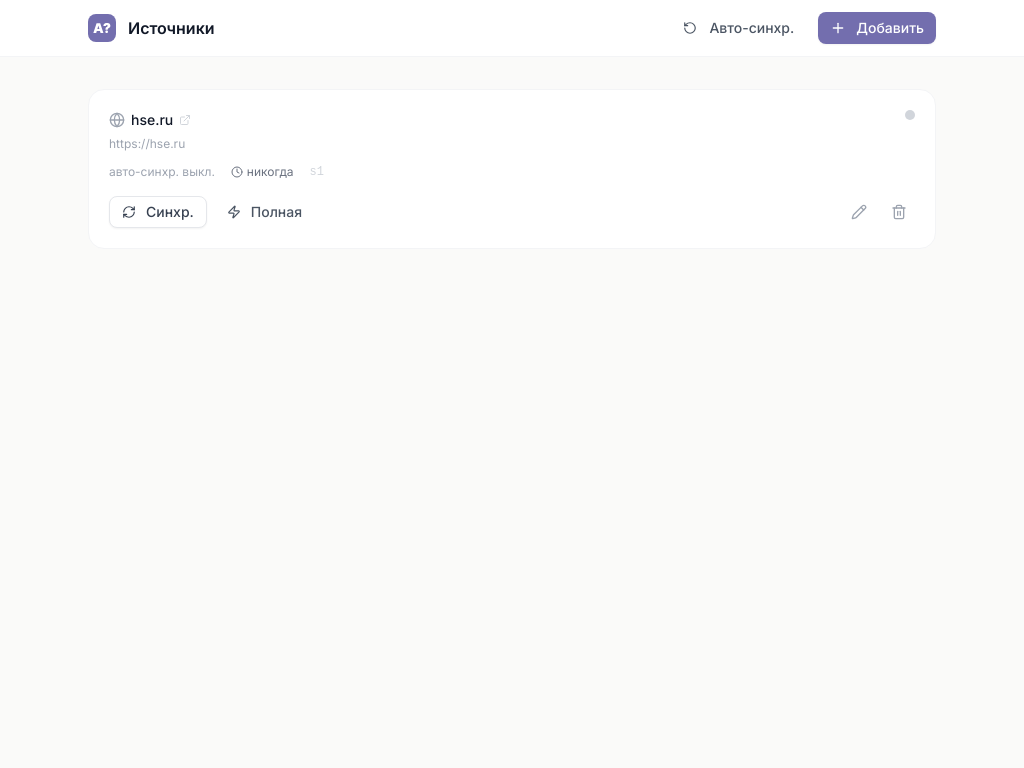
Test: SourcesPage › opens delete confirm modal
Expected: the link "hse.ru" is shown, [109, 110, 191, 130]
Click the button named "удалить" at (899, 212), box [883, 196, 915, 228]
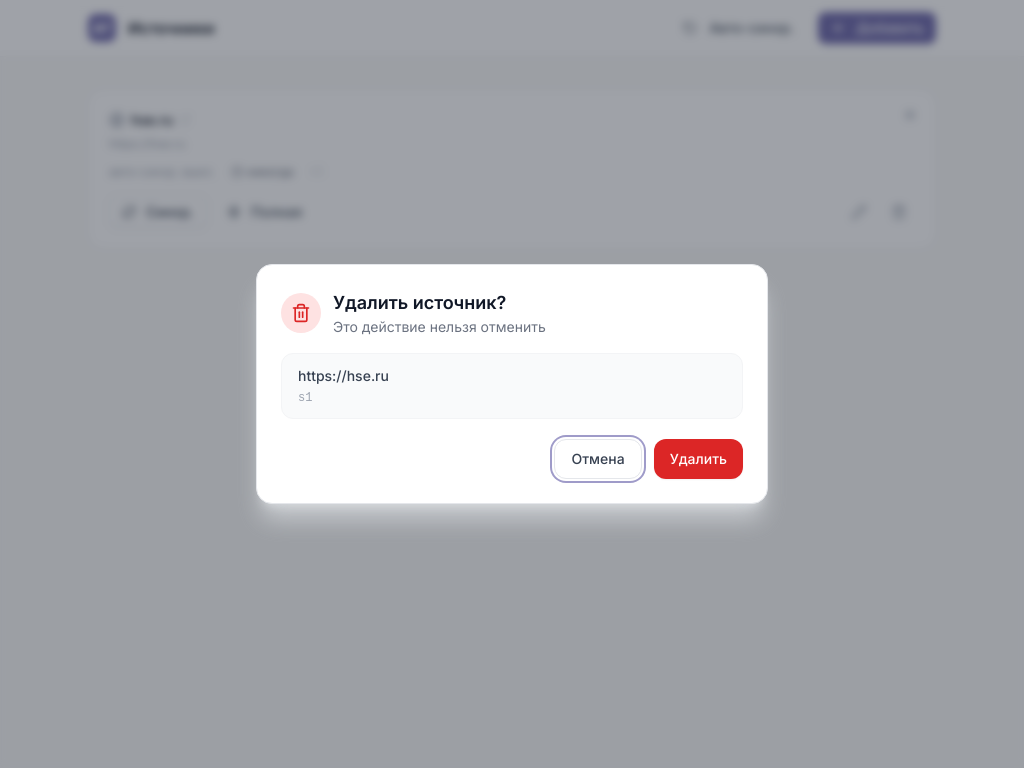
Now the dialog is shown, box [256, 264, 768, 504]
Now the heading "Удалить источник?" is shown, box [333, 292, 506, 313]
